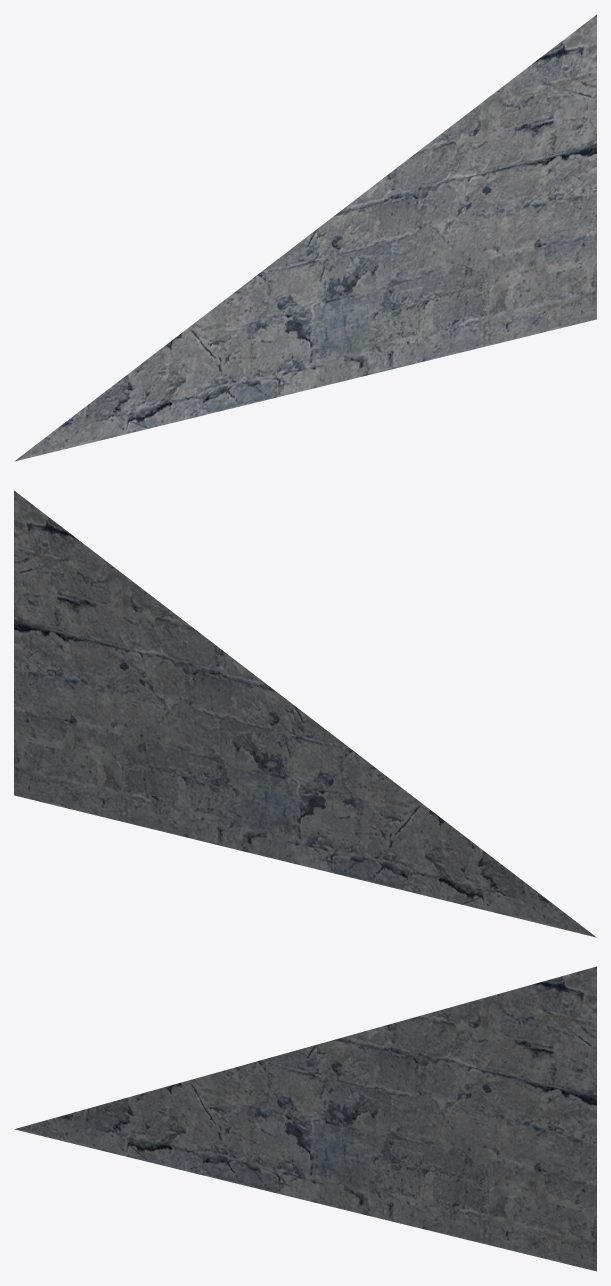
Rendered from factory_corridor_01_angle.DAE.
3 views of the same model, one above another, from view 1: azimuth 30°, elevation 25°; view 2: azimuth 150°, elevation 25°; view 3: azimuth 330°, elevation 25° (orthographic).
Parts seen in each view (by area): view 1: Box089; view 2: Box089; view 3: Box089.
Boxes of the visible parts, box(x1,y1,x2,y2) form: Box089: box(14, 14, 596, 461); Box089: box(14, 490, 596, 937); Box089: box(14, 966, 596, 1271).
Bounding box in the file's own units: 4 × 2 × 0.
